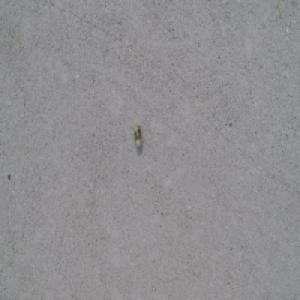BoltNutSet: (132, 124, 142, 146)
